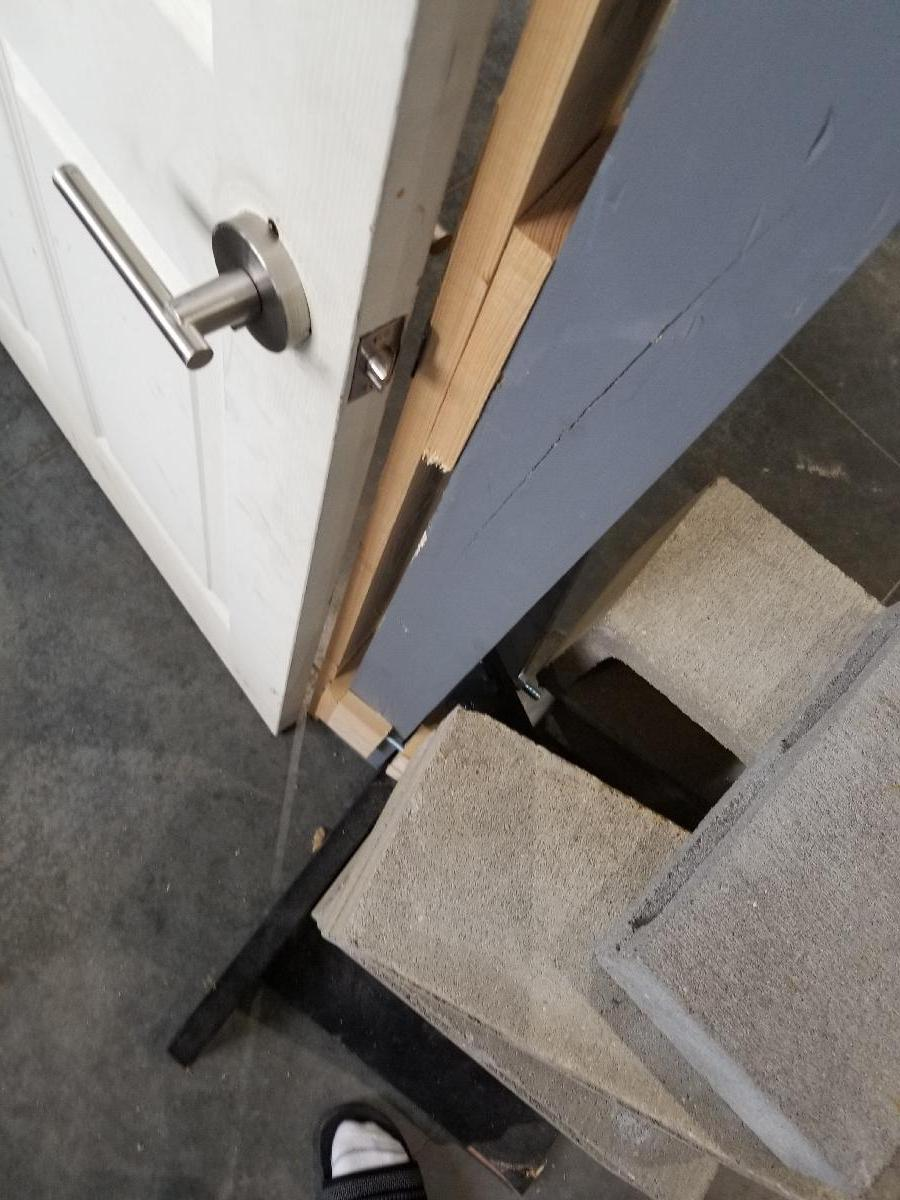handle: (53, 156, 306, 374)
